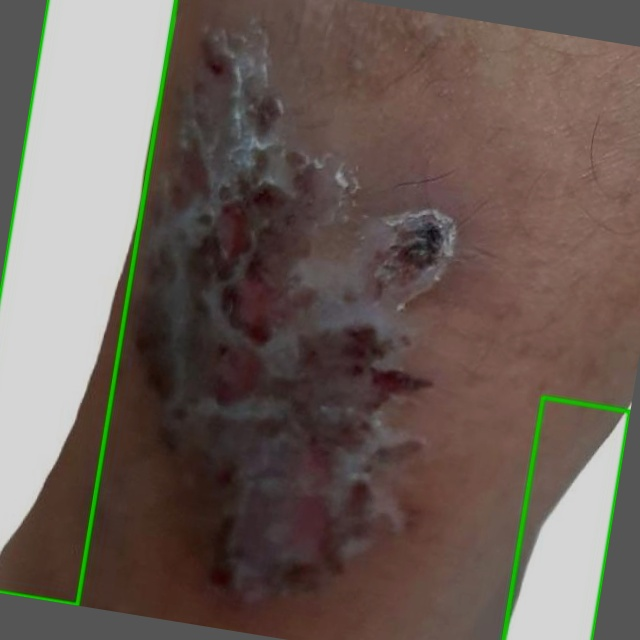Contact Dermatitis: (0, 0, 175, 604), (503, 397, 629, 639)
